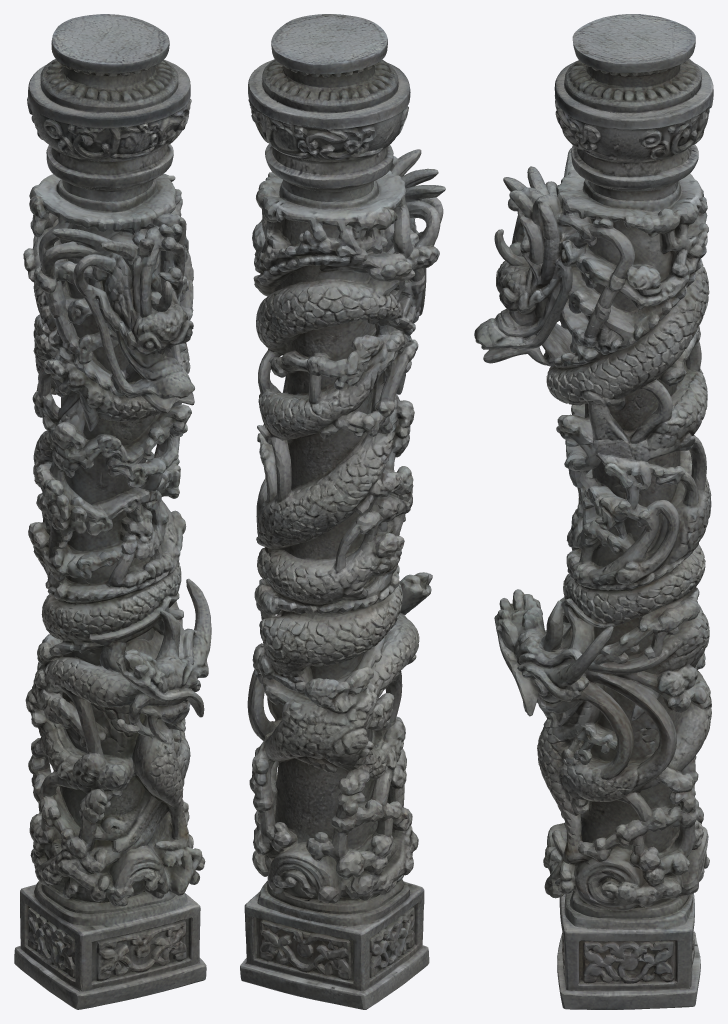
The model's file is dragon-column.glb.
3 renders of one model, left to right at view 1: azimuth 30°, elevation 25°; view 2: azimuth 150°, elevation 25°; view 3: azimuth 270°, elevation 25°, orthographic.
Parts seen in each view (by area): view 1: model; view 2: model; view 3: model.
Part boxes in pixels (<box>): model: <box>14,14,211,1009</box>; model: <box>240,14,445,1009</box>; model: <box>474,14,713,1009</box>.
Size of the model in its own units: 0.3562 by 1.9 by 0.4376.
1 material, 1 textured.
